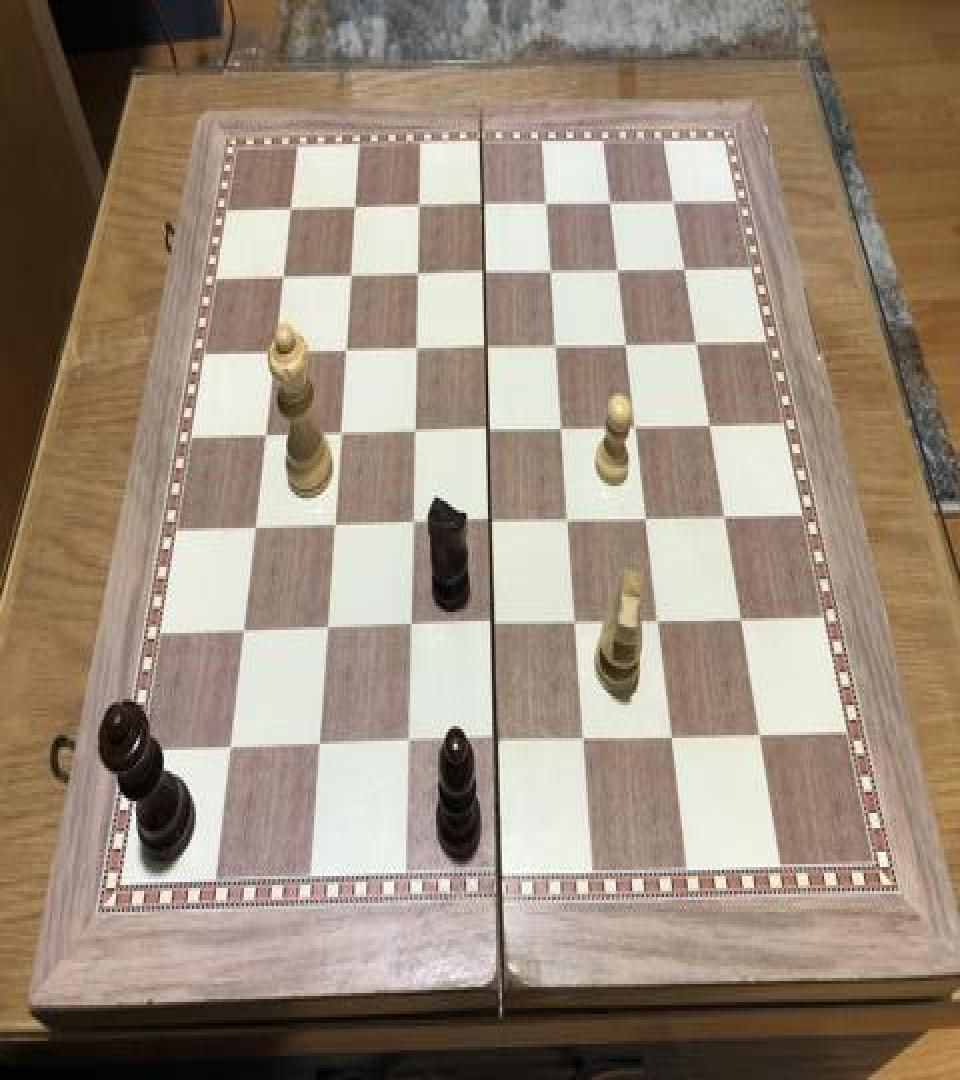xcorner: (398, 610, 422, 647), (660, 718, 684, 755), (664, 182, 688, 218), (600, 183, 624, 219), (536, 184, 560, 220), (472, 186, 496, 222), (344, 189, 368, 225), (280, 190, 304, 226), (675, 249, 699, 285), (608, 250, 632, 286), (541, 252, 565, 288), (474, 254, 498, 290), (406, 255, 430, 291), (339, 256, 363, 292), (272, 258, 296, 294), (686, 324, 710, 360), (616, 326, 640, 362), (546, 327, 570, 363), (405, 330, 429, 366), (334, 332, 358, 368), (263, 334, 287, 370), (699, 406, 723, 442), (625, 408, 649, 444), (551, 410, 575, 446), (477, 411, 501, 447), (403, 414, 427, 450), (328, 416, 352, 452), (254, 417, 278, 453), (714, 498, 738, 534), (636, 500, 660, 536), (557, 502, 581, 538), (479, 504, 503, 540), (400, 506, 424, 542), (322, 508, 346, 544), (243, 510, 267, 546), (730, 600, 754, 636), (647, 603, 671, 639), (564, 604, 588, 640), (481, 608, 505, 644), (315, 612, 339, 648), (231, 615, 255, 651), (748, 716, 772, 752), (572, 722, 596, 758), (484, 724, 508, 760), (395, 726, 419, 762), (306, 729, 330, 765), (218, 732, 242, 768), (408, 188, 432, 223), (475, 329, 499, 364)
